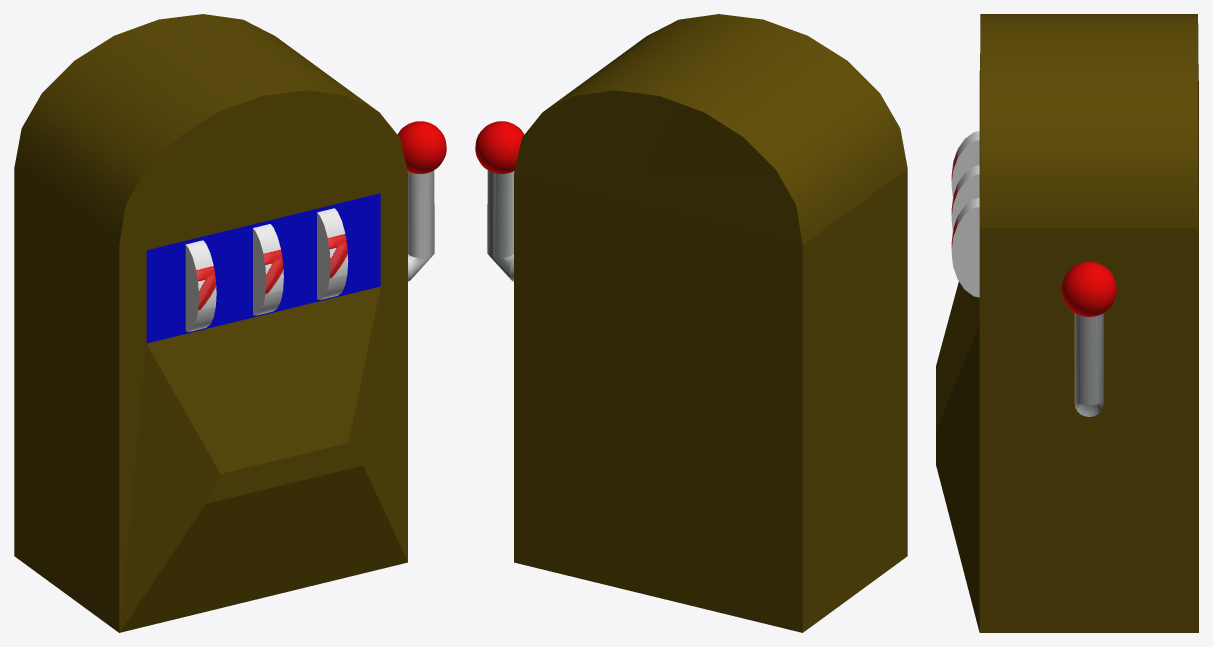
The model's file is finshed_slot_machine.fbx.
3 renders of one model, left to right at view 1: azimuth 30°, elevation 25°; view 2: azimuth 150°, elevation 25°; view 3: azimuth 270°, elevation 25°, orthographic. The views are drawn at different scales.
Visible parts, largest first — view 1: slotBase1, arm1, pCylinder1, pCylinder3, pCylinder2, pSphere1; view 2: slotBase1, arm1, pSphere1; view 3: slotBase1, arm1, pSphere1, pCylinder3, pCylinder1, pCylinder2.
Part boxes in pixels (x1,y1,x2,y2): slotBase1: (14, 14, 407, 632); arm1: (407, 170, 434, 281); pCylinder1: (185, 240, 216, 331); pCylinder3: (317, 208, 348, 299); pCylinder2: (253, 224, 283, 315); pSphere1: (397, 121, 446, 173); slotBase1: (514, 14, 907, 632); arm1: (487, 170, 514, 281); pSphere1: (475, 121, 524, 173); slotBase1: (936, 14, 1198, 632); arm1: (1074, 313, 1103, 416); pSphere1: (1061, 261, 1116, 316); pCylinder3: (951, 198, 979, 297); pCylinder1: (951, 131, 979, 196); pCylinder2: (951, 165, 979, 230).
Size of the model in its own units: 2.07 by 2.64 by 1.2.
Materials: 6 (2 with a texture image).
